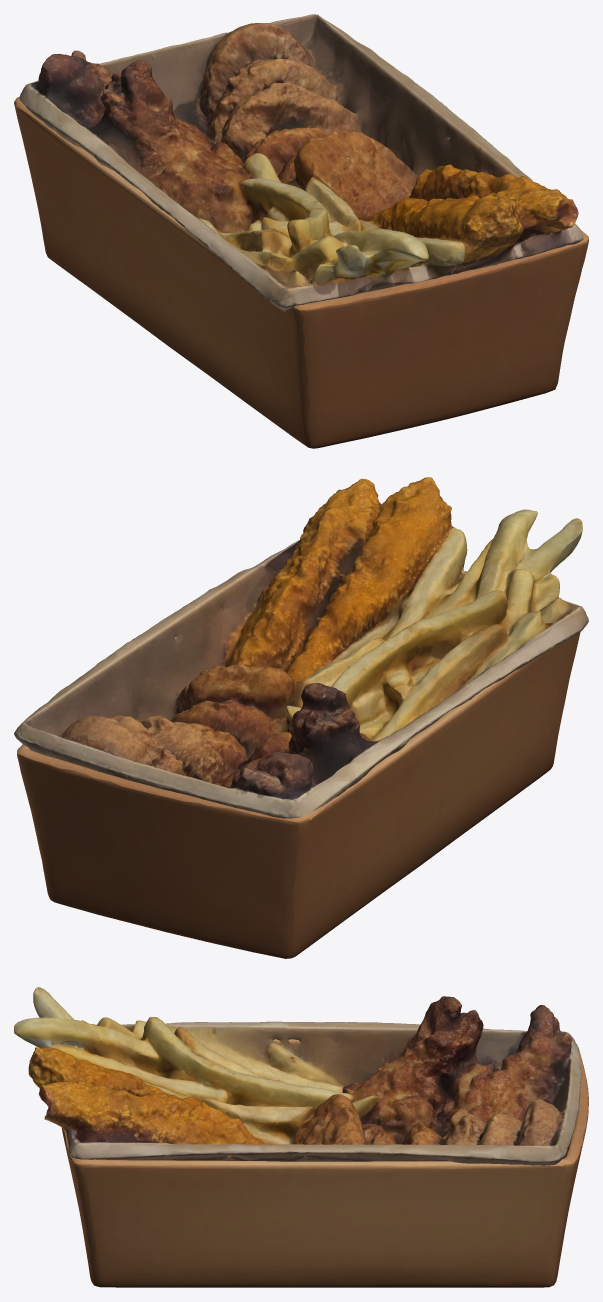
The model's file is finger.box.glb.
The picture shows the model from 3 angles, top to bottom: view 1: azimuth 30°, elevation 25°; view 2: azimuth 150°, elevation 25°; view 3: azimuth 270°, elevation 25°; orthographic projection. The views are drawn at different scales.
Parts seen in each view (by area): view 1: /Root/Scenes/Scene/Object_52/Object_53/Submesh_0, /Root/Scenes/Scene/Object_52/Object_56/Object_57/Submesh_0; view 2: /Root/Scenes/Scene/Object_52/Object_53/Submesh_0, /Root/Scenes/Scene/Object_52/Object_56/Object_57/Submesh_0; view 3: /Root/Scenes/Scene/Object_52/Object_53/Submesh_0, /Root/Scenes/Scene/Object_52/Object_56/Object_57/Submesh_0.
Boxes of the visible parts, x1,y1,x2,y2 form: /Root/Scenes/Scene/Object_52/Object_53/Submesh_0: (19, 14, 583, 311); /Root/Scenes/Scene/Object_52/Object_56/Object_57/Submesh_0: (14, 96, 588, 448); /Root/Scenes/Scene/Object_52/Object_53/Submesh_0: (14, 477, 588, 818); /Root/Scenes/Scene/Object_52/Object_56/Object_57/Submesh_0: (17, 608, 580, 958); /Root/Scenes/Scene/Object_52/Object_53/Submesh_0: (14, 987, 581, 1165); /Root/Scenes/Scene/Object_52/Object_56/Object_57/Submesh_0: (61, 1039, 588, 1287).
Size of the model in its own units: 0.1227 by 0.0885 by 0.2192.
2 materials, 2 textured.
